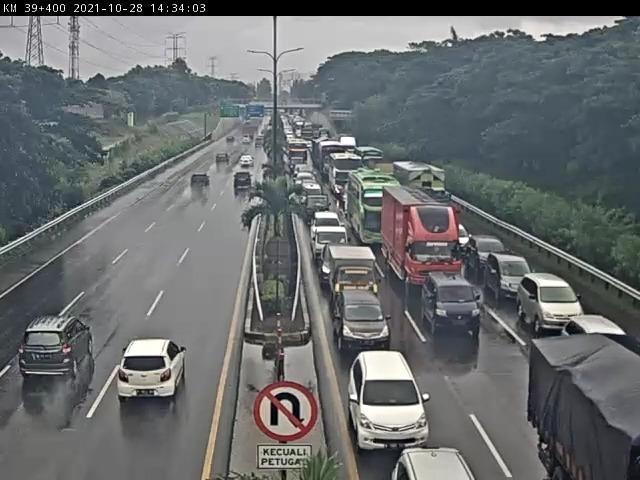bus: (349, 172, 402, 248), (323, 152, 363, 194), (287, 140, 309, 170)
car: (351, 355, 431, 452), (20, 317, 96, 382), (119, 337, 188, 406), (420, 274, 482, 342), (323, 247, 385, 305), (521, 274, 585, 330), (328, 287, 390, 344), (489, 256, 534, 303), (311, 223, 352, 265), (467, 236, 509, 271), (299, 195, 331, 225), (448, 222, 471, 253), (232, 171, 254, 195), (189, 171, 214, 192), (297, 179, 321, 200), (313, 209, 341, 227), (218, 151, 237, 168), (295, 168, 313, 183), (239, 156, 256, 171)
truck: (382, 186, 461, 296), (393, 160, 457, 214), (319, 143, 348, 179), (355, 149, 384, 170)
